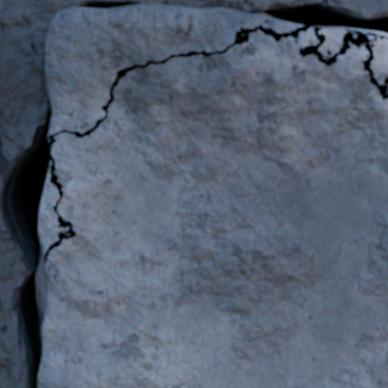brick: (38, 29, 387, 387), (46, 4, 297, 134), (372, 39, 387, 84)
crack: (0, 0, 387, 387), (80, 1, 137, 10)
